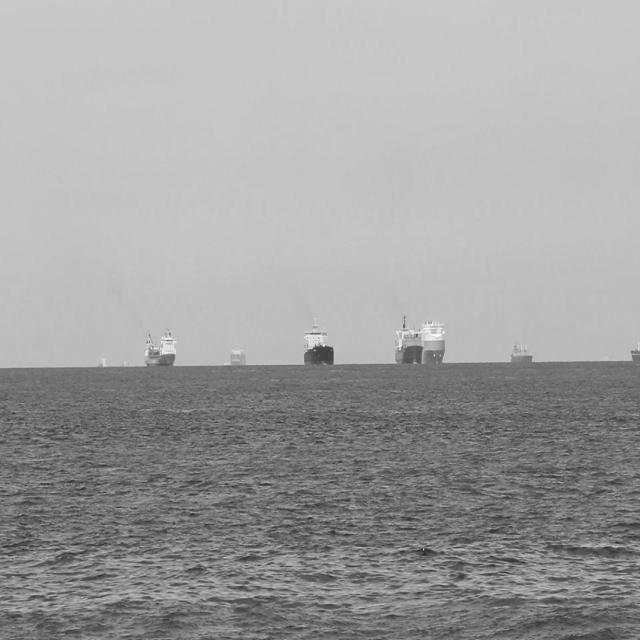ship: (301, 313, 335, 369), (392, 308, 422, 365), (142, 328, 180, 370), (422, 311, 447, 366), (506, 337, 534, 364), (227, 344, 247, 366), (96, 348, 109, 368), (628, 342, 638, 364), (122, 352, 131, 368)
